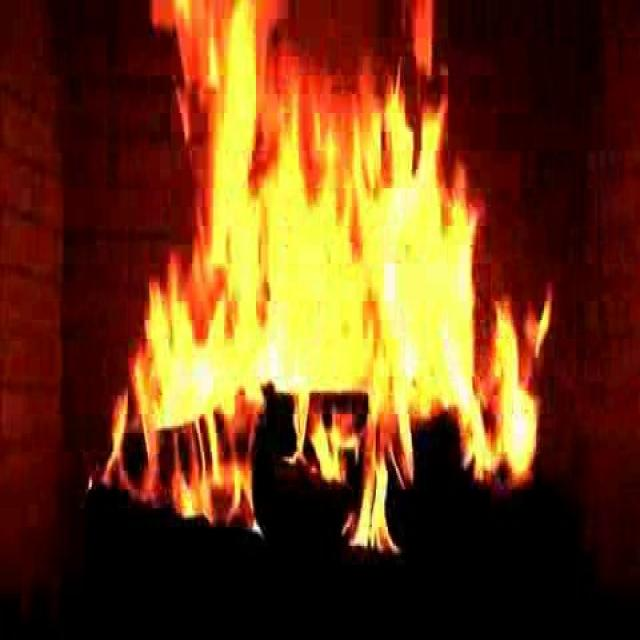fire: (157, 8, 528, 529)
